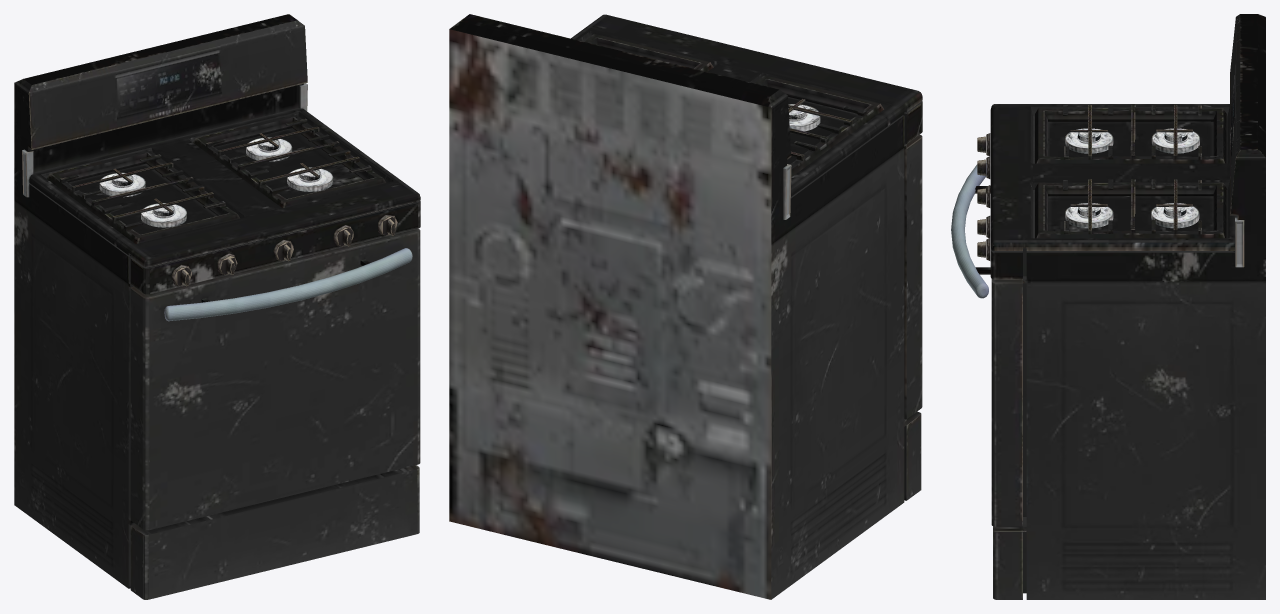
The model's file is p_gas_stove.glb.
3 renders of one model, left to right at view 1: azimuth 30°, elevation 25°; view 2: azimuth 150°, elevation 25°; view 3: azimuth 270°, elevation 25°, orthographic. The views are drawn at different scales.
Visible parts, largest first — view 1: Stove; view 2: Stove; view 3: Stove.
Part boxes in pixels (x1,y1,x2,y2): Stove: [14, 14, 420, 599]; Stove: [449, 14, 922, 599]; Stove: [951, 14, 1265, 599].
Size of the model in its own units: 373 by 540 by 344.
Materials: 1 (1 with a texture image).
